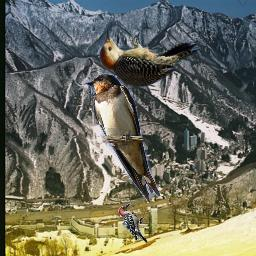Swallow: (84, 73, 160, 200)
Woodpecker: (91, 24, 205, 88), (118, 203, 148, 243)
